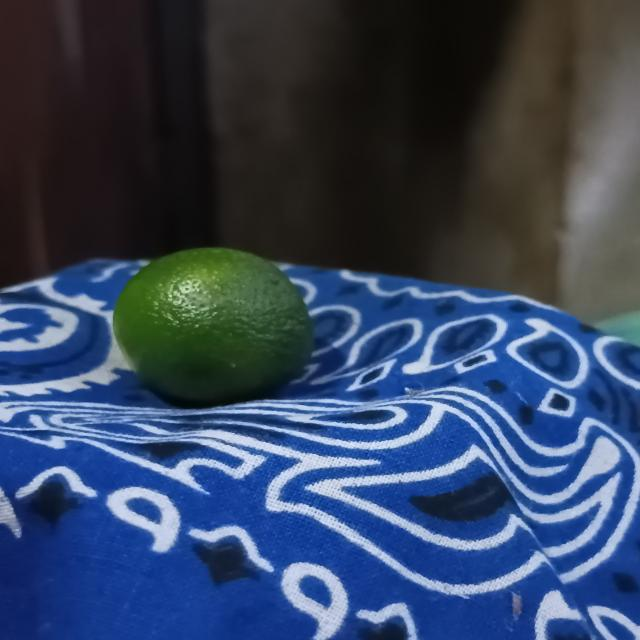heathy: (104, 242, 320, 405)
